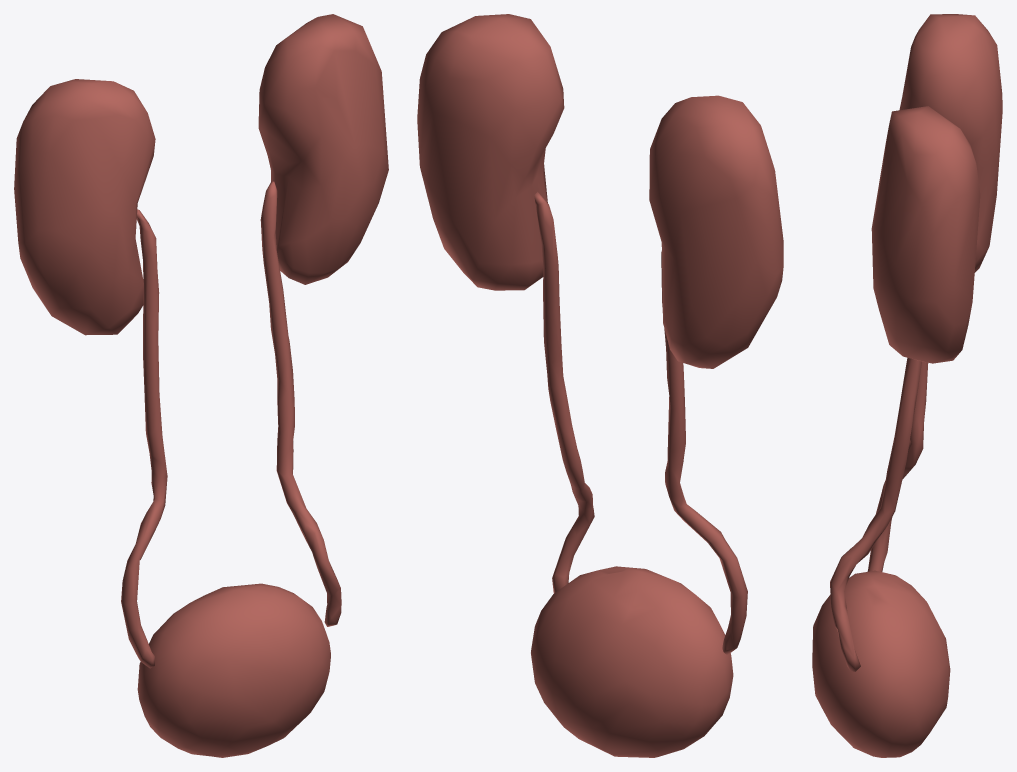
Rendered from pediatric_adolescent_male.urinary.LOD1.glb.
3 renders of one model, left to right at view 1: azimuth 30°, elevation 25°; view 2: azimuth 150°, elevation 25°; view 3: azimuth 270°, elevation 25°, orthographic. The views are drawn at different scales.
Visible parts, largest first — view 1: PEDIATRIC.ADOLESCENT.MALE.URINARY.KIDNEY_CORTEX.R, PEDIATRIC.ADOLESCENT.MALE.URINARY.KIDNEY_CORTEX.L, PEDIATRIC.ADOLESCENT.MALE.URINARY.URINARY_BLADDER_WALL, PEDIATRIC.ADOLESCENT.MALE.URINARY.URETER.L, PEDIATRIC.ADOLESCENT.MALE.URINARY.URETER.R; view 2: PEDIATRIC.ADOLESCENT.MALE.URINARY.KIDNEY_CORTEX.L, PEDIATRIC.ADOLESCENT.MALE.URINARY.URINARY_BLADDER_WALL, PEDIATRIC.ADOLESCENT.MALE.URINARY.KIDNEY_CORTEX.R, PEDIATRIC.ADOLESCENT.MALE.URINARY.URETER.L, PEDIATRIC.ADOLESCENT.MALE.URINARY.URETER.R; view 3: PEDIATRIC.ADOLESCENT.MALE.URINARY.KIDNEY_CORTEX.L, PEDIATRIC.ADOLESCENT.MALE.URINARY.URINARY_BLADDER_WALL, PEDIATRIC.ADOLESCENT.MALE.URINARY.KIDNEY_CORTEX.R, PEDIATRIC.ADOLESCENT.MALE.URINARY.URETER.L, PEDIATRIC.ADOLESCENT.MALE.URINARY.URETER.R.
Part boxes in pixels (box(x1,y1,x2,y2)): PEDIATRIC.ADOLESCENT.MALE.URINARY.KIDNEY_CORTEX.R: box(14, 79, 155, 335); PEDIATRIC.ADOLESCENT.MALE.URINARY.KIDNEY_CORTEX.L: box(258, 14, 388, 284); PEDIATRIC.ADOLESCENT.MALE.URINARY.URINARY_BLADDER_WALL: box(137, 583, 330, 757); PEDIATRIC.ADOLESCENT.MALE.URINARY.URETER.L: box(260, 181, 341, 626); PEDIATRIC.ADOLESCENT.MALE.URINARY.URETER.R: box(121, 209, 167, 668); PEDIATRIC.ADOLESCENT.MALE.URINARY.KIDNEY_CORTEX.L: box(417, 14, 564, 290); PEDIATRIC.ADOLESCENT.MALE.URINARY.URINARY_BLADDER_WALL: box(531, 566, 733, 757); PEDIATRIC.ADOLESCENT.MALE.URINARY.KIDNEY_CORTEX.R: box(649, 95, 783, 368); PEDIATRIC.ADOLESCENT.MALE.URINARY.URETER.L: box(534, 192, 594, 593); PEDIATRIC.ADOLESCENT.MALE.URINARY.URETER.R: box(661, 251, 747, 654); PEDIATRIC.ADOLESCENT.MALE.URINARY.KIDNEY_CORTEX.L: box(871, 106, 980, 363); PEDIATRIC.ADOLESCENT.MALE.URINARY.URINARY_BLADDER_WALL: box(812, 570, 950, 757); PEDIATRIC.ADOLESCENT.MALE.URINARY.KIDNEY_CORTEX.R: box(899, 14, 1002, 272); PEDIATRIC.ADOLESCENT.MALE.URINARY.URETER.L: box(830, 357, 921, 671); PEDIATRIC.ADOLESCENT.MALE.URINARY.URETER.R: box(867, 361, 928, 571).
Size of the model in its own units: 0.1686 by 0.3151 by 0.0793.
